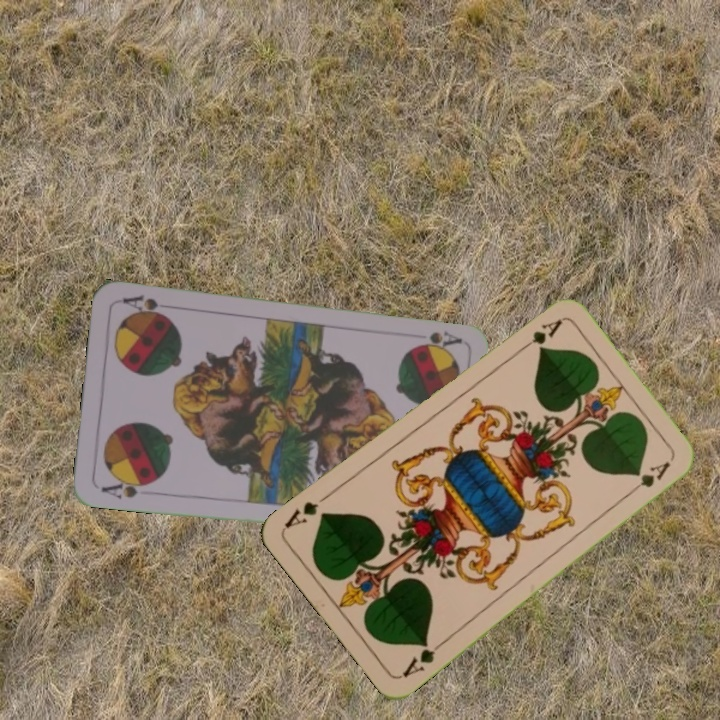GA: (513, 315, 565, 356), (398, 637, 447, 680)
SA: (97, 474, 156, 502), (414, 327, 464, 350)
